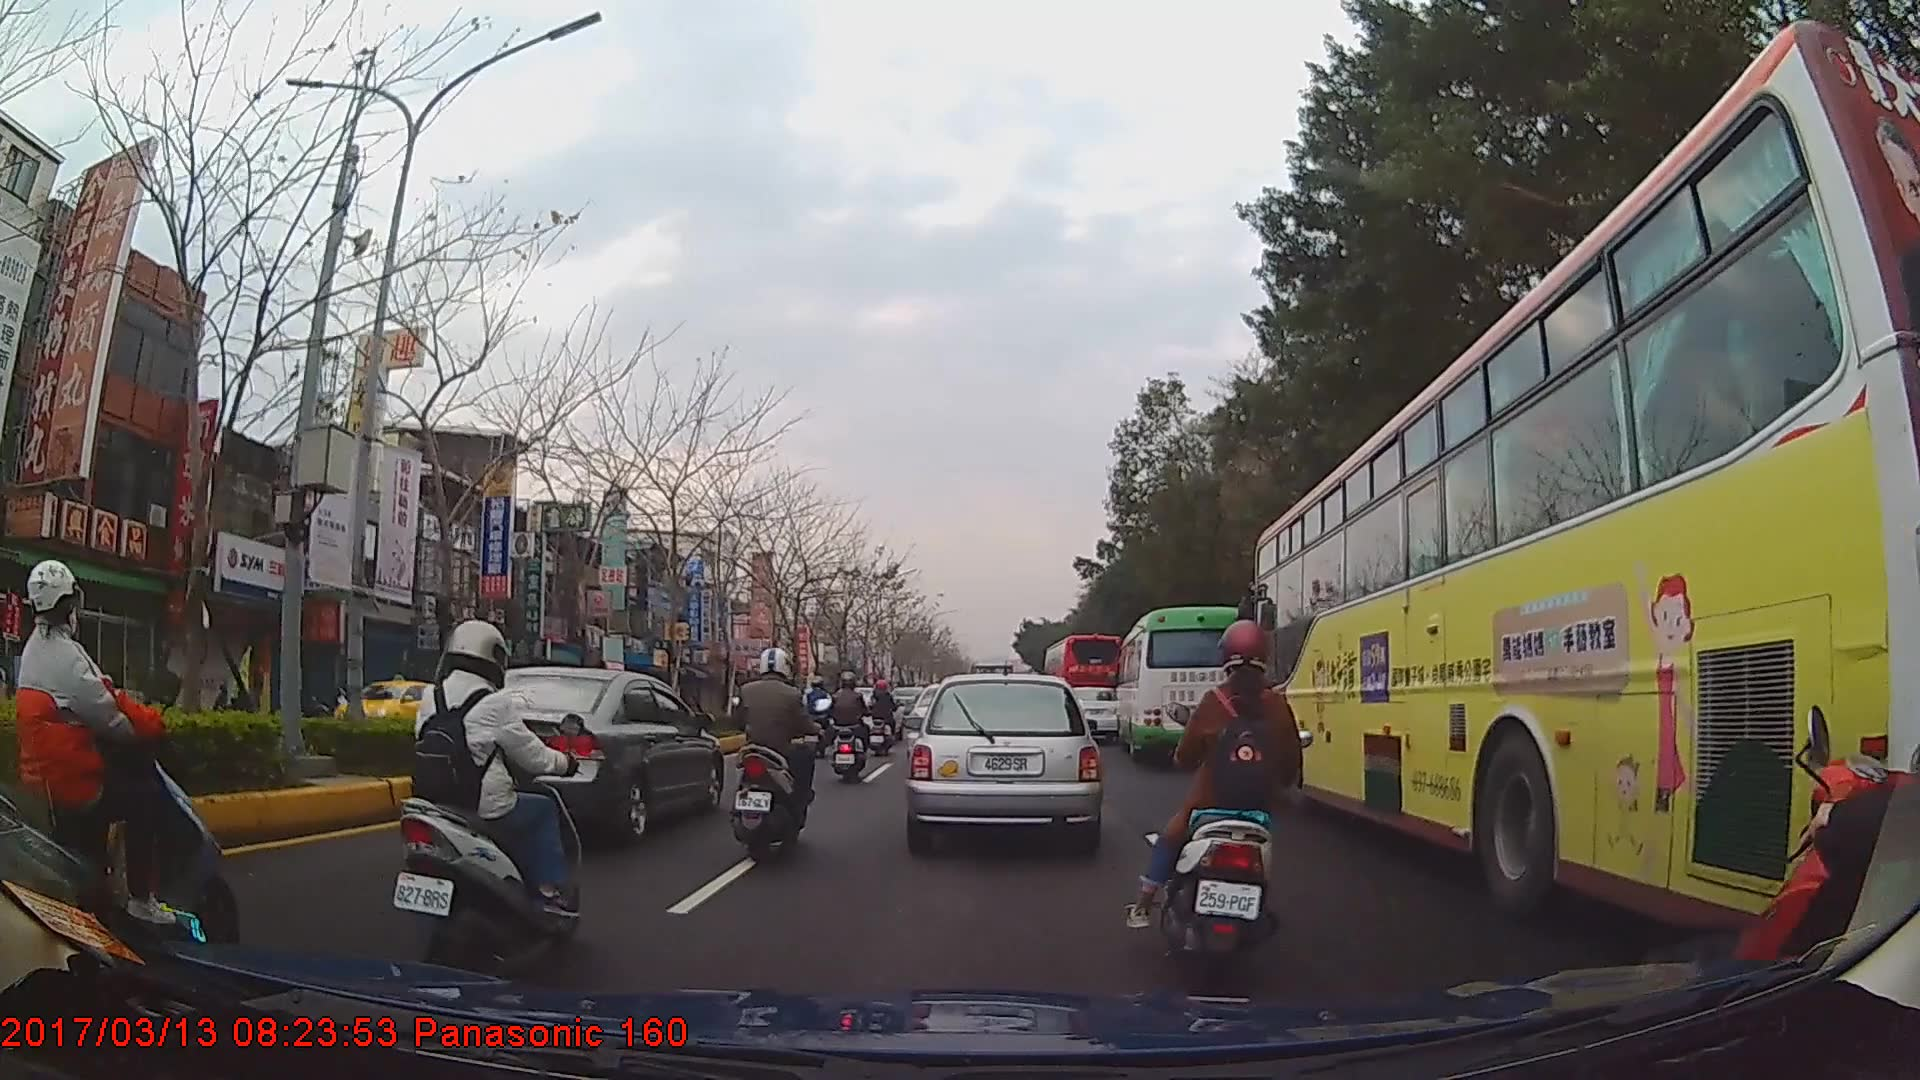rider: (1, 561, 242, 975), (393, 620, 592, 973), (1143, 619, 1316, 994), (733, 647, 828, 867), (828, 672, 869, 784), (868, 679, 899, 758), (803, 675, 836, 744)
vehicle: (1255, 21, 1920, 941), (416, 663, 724, 844), (907, 670, 1100, 848), (1115, 604, 1266, 763), (1044, 633, 1130, 735)
